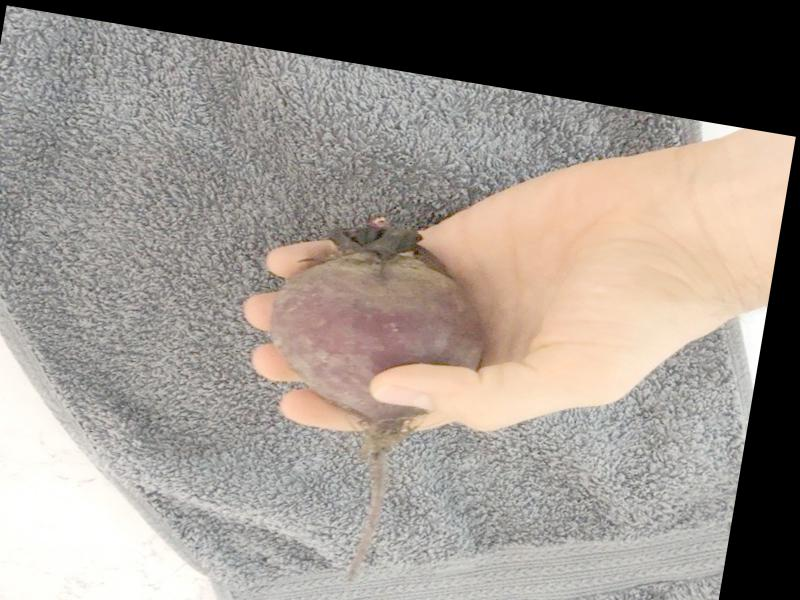Beet: (228, 210, 502, 596)
